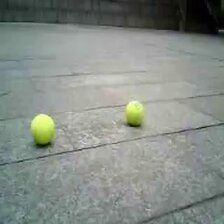tennis: (31, 113, 54, 143), (125, 100, 145, 123)
